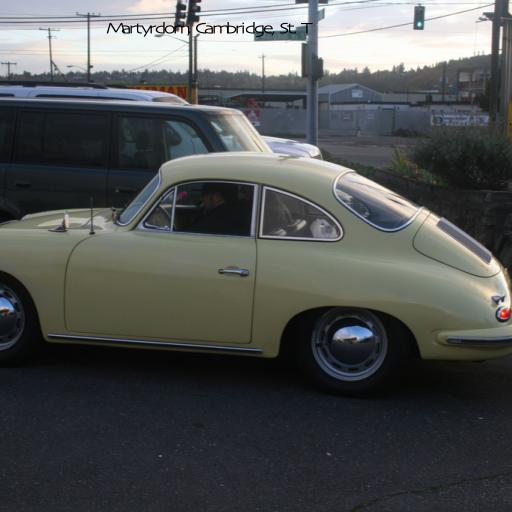Skia: (106, 21, 310, 37)
